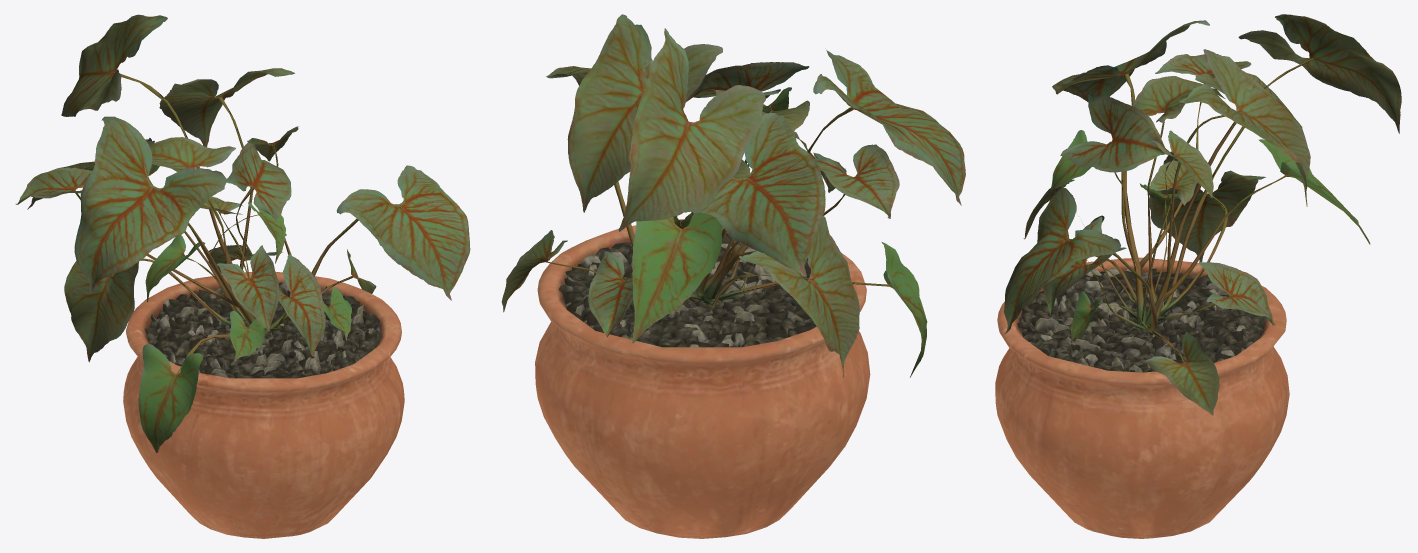
File: plant.glb
3 views of the same model, side by side, from view 1: azimuth 30°, elevation 25°; view 2: azimuth 150°, elevation 25°; view 3: azimuth 270°, elevation 25° (orthographic). The views are drawn at different scales.
Parts seen in each view (by area): view 1: leaves, pot, dirt; view 2: leaves, pot, dirt; view 3: leaves, pot, dirt.
Part boxes in pixels (x1,y1,x2,y2): leaves: [15, 14, 470, 452]; pot: [123, 271, 404, 538]; dirt: [144, 282, 382, 378]; leaves: [501, 14, 965, 377]; pot: [535, 219, 870, 538]; dirt: [559, 233, 816, 347]; leaves: [1004, 14, 1401, 415]; pot: [995, 257, 1289, 538]; dirt: [1017, 267, 1266, 372].
Bounding box in the file's own units: 0.7012 × 0.8412 × 0.6561.
Materials: 2 (2 with a texture image).
